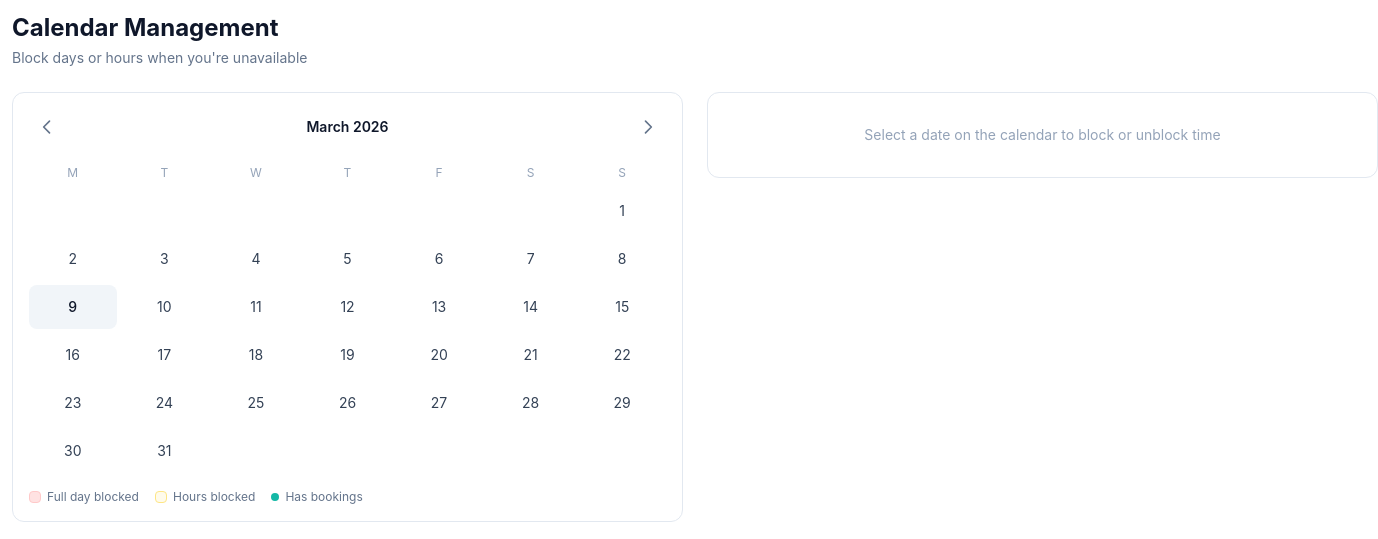
Calendar Page › shows date range input when 'Date Range' mode is selected
Step 1. Click the button "15" → click(622, 307), box [578, 285, 666, 329]
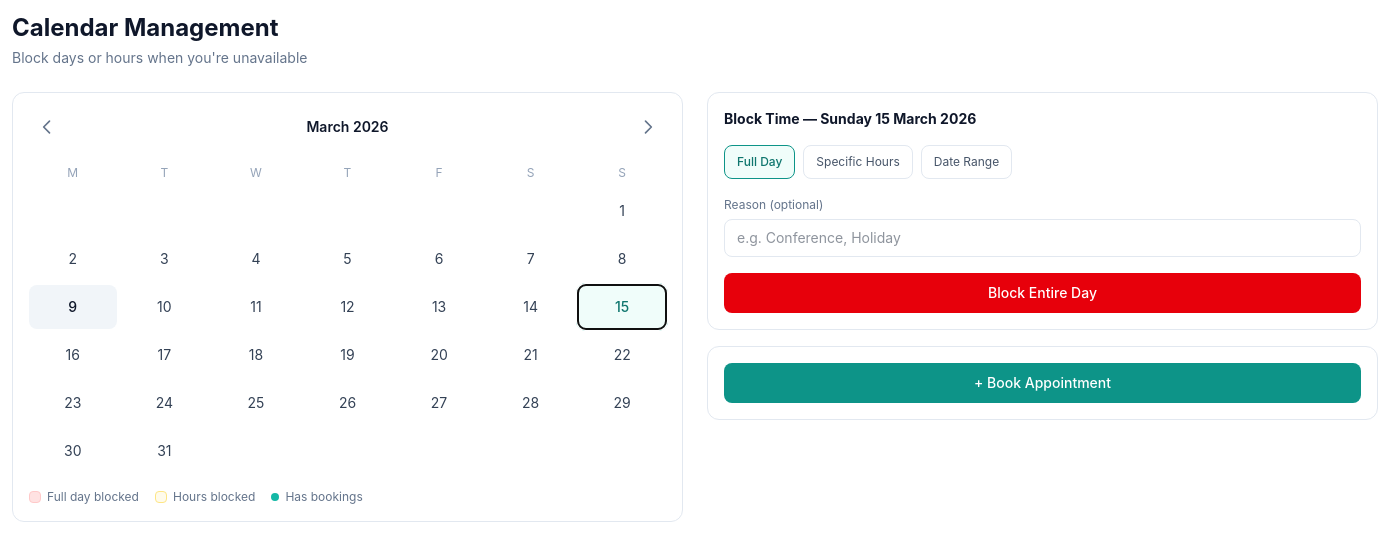
Step 2. Click the button "Date Range" → click(966, 162), box [921, 145, 1012, 179]
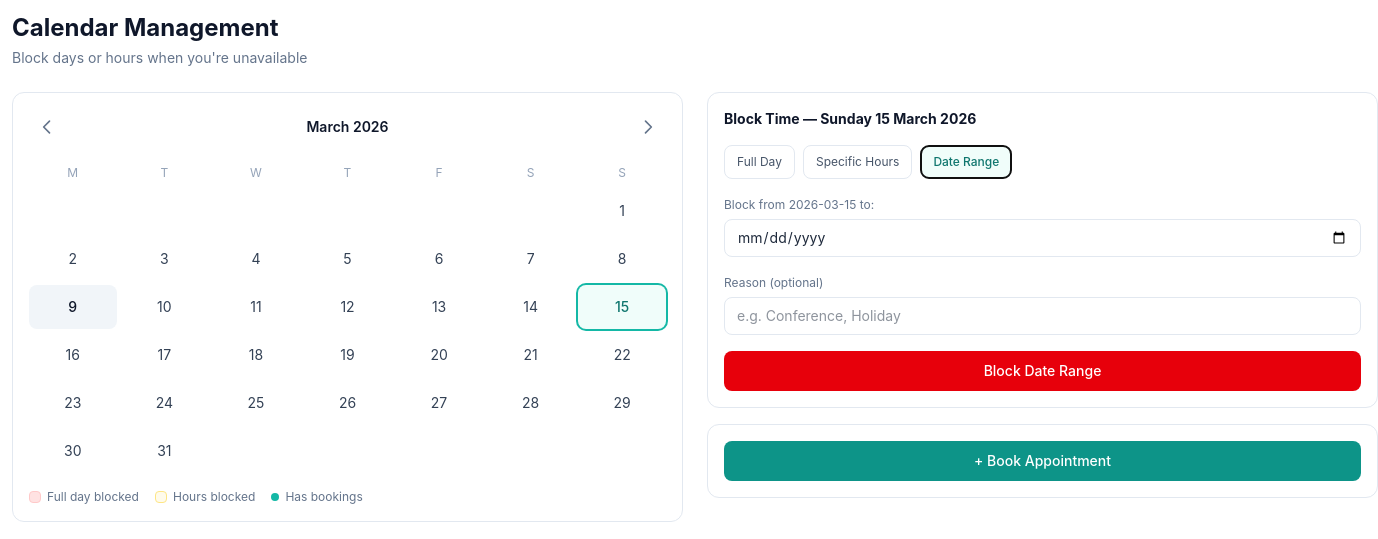
Result: the text "Block from 2026-03-15 to:" is shown at [724, 197, 874, 212]
Result: the button "Block Date Range" is shown at [724, 351, 1361, 391]
